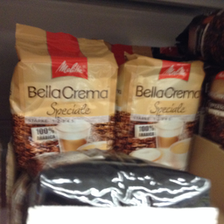coffee: (7, 23, 119, 166), (116, 48, 206, 168)
